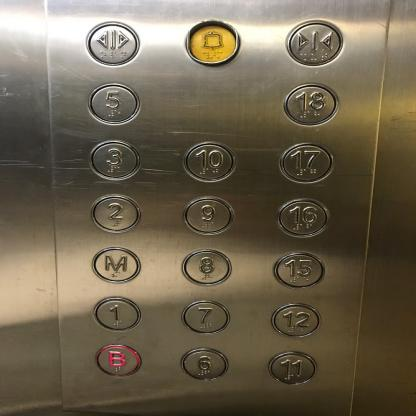1: (90, 295, 142, 332)
10: (182, 139, 237, 182)
11: (268, 350, 316, 385)
12: (267, 301, 321, 338)
15: (272, 249, 326, 288)
16: (275, 197, 328, 236)
17: (276, 140, 332, 183)
18: (282, 82, 338, 126)
2: (89, 192, 143, 232)
3: (86, 138, 141, 181)
5: (85, 81, 140, 124)
6: (180, 346, 228, 380)
7: (180, 298, 232, 334)
8: (178, 246, 232, 285)
9: (181, 195, 234, 234)
B: (93, 342, 142, 377)
M: (88, 244, 142, 284)
alarm: (182, 18, 243, 65)
close: (285, 18, 345, 66)
open: (84, 20, 140, 66)
